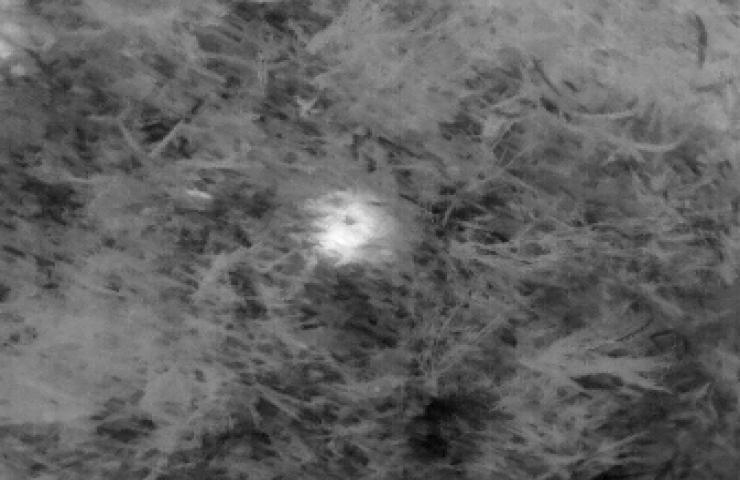landmines: (314, 188, 394, 261)
